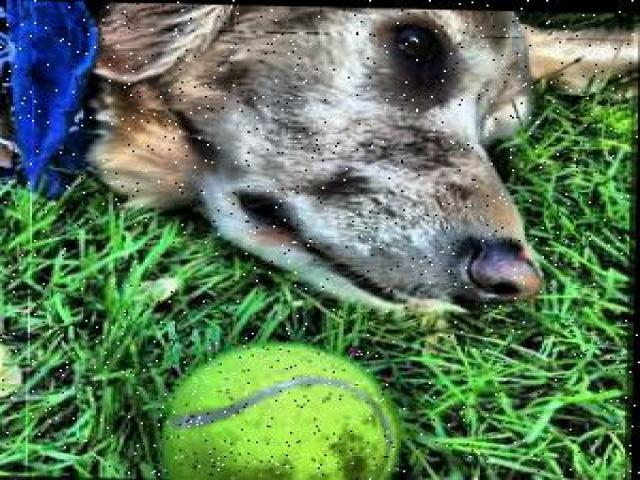tennis-ball: (164, 342, 400, 479)
